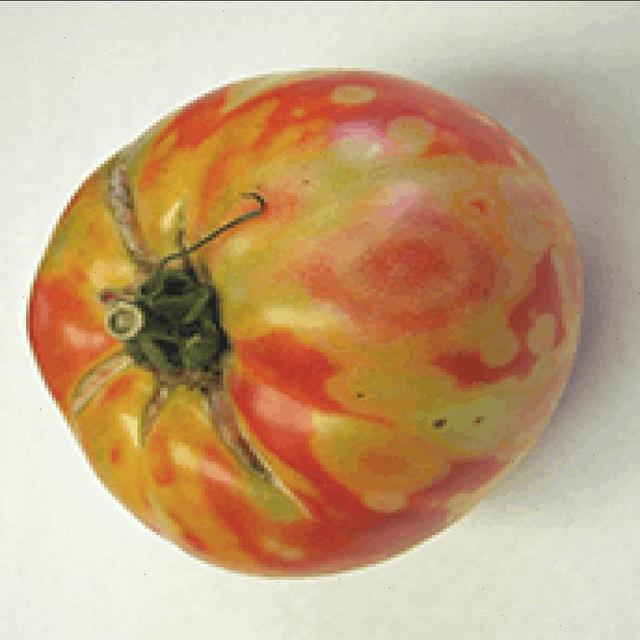Spotted wilt Virus Fruit: (169, 23, 352, 70)
